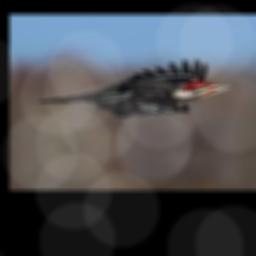Woodpecker: (39, 58, 240, 118)
